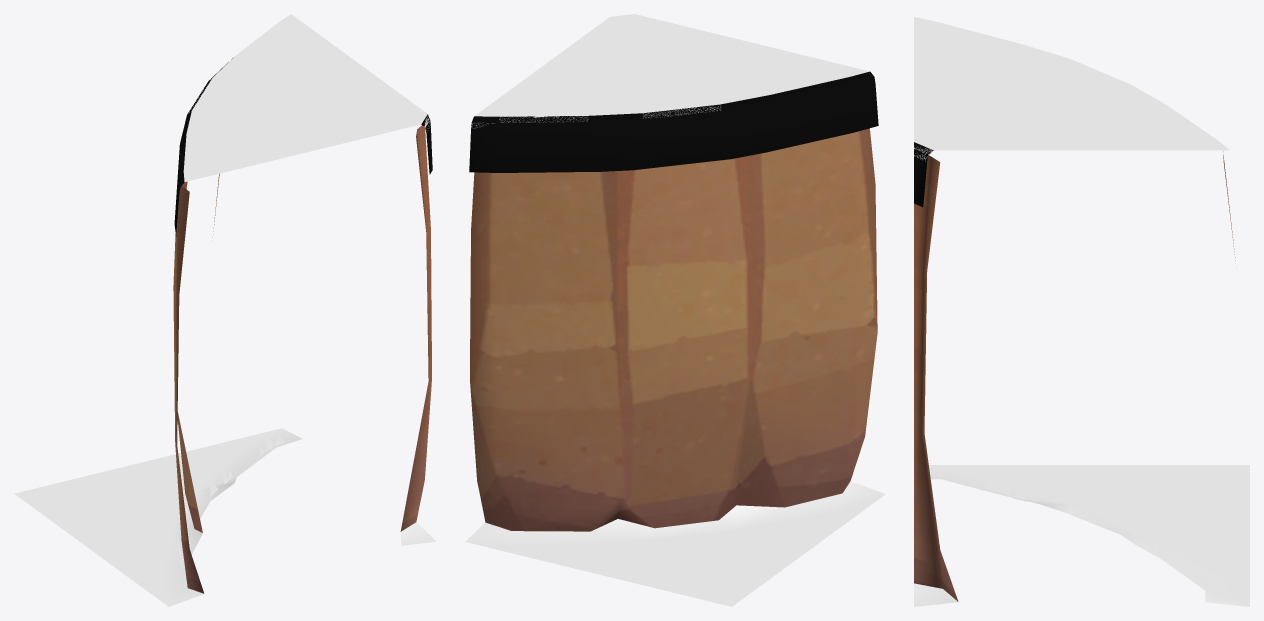
3 views of the same model, side by side, from view 1: azimuth 30°, elevation 25°; view 2: azimuth 150°, elevation 25°; view 3: azimuth 270°, elevation 25° (orthographic). The views are drawn at different scales.
Visible parts, largest first — view 1: GrassT__mGrass, GrassB_1__mGrass, CliffThin__mCliff, GrassOP_1__mGrassCliffXlu; view 2: CliffThin__mCliff, GrassOP_1__mGrassCliffXlu, GrassT__mGrass, GrassB_1__mGrass, PGrassBA__mProcGrass; view 3: GrassT__mGrass, GrassB_1__mGrass, CliffThin__mCliff, PGrassBA__mProcGrass, GrassOP_1__mGrassCliffXlu.
Boxes of the visible parts, left/top/right/bottom form: GrassT__mGrass: left=183, top=14, right=429, bottom=181; GrassB_1__mGrass: left=14, top=428, right=436, bottom=606; CliffThin__mCliff: left=173, top=125, right=431, bottom=593; GrassOP_1__mGrassCliffXlu: left=174, top=57, right=432, bottom=236; CliffThin__mCliff: left=470, top=128, right=877, bottom=531; GrassOP_1__mGrassCliffXlu: left=469, top=71, right=878, bottom=172; GrassT__mGrass: left=471, top=14, right=869, bottom=128; GrassB_1__mGrass: left=465, top=481, right=885, bottom=606; PGrassBA__mProcGrass: left=486, top=68, right=859, bottom=117; GrassT__mGrass: left=914, top=17, right=1229, bottom=161; GrassB_1__mGrass: left=914, top=465, right=1249, bottom=606; CliffThin__mCliff: left=914, top=151, right=1235, bottom=601; PGrassBA__mProcGrass: left=980, top=474, right=1211, bottom=594; GrassOP_1__mGrassCliffXlu: left=914, top=142, right=933, bottom=206.
Bounding box in the file's own units: 10 × 15.45 × 10.
Materials: 4 (1 with a texture image).
